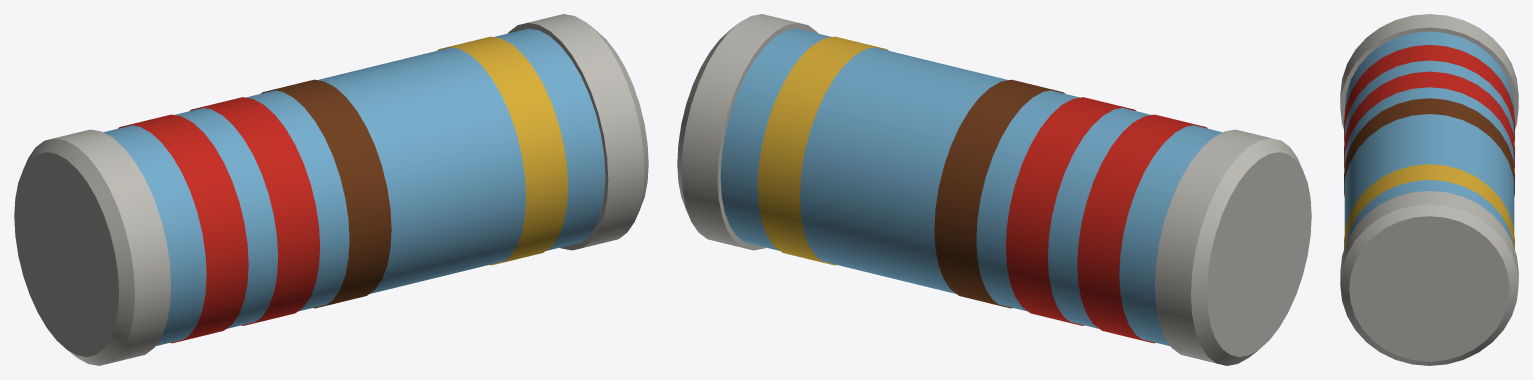
The model's file is resistor.glb.
3 renders of one model, left to right at view 1: azimuth 30°, elevation 25°; view 2: azimuth 150°, elevation 25°; view 3: azimuth 270°, elevation 25°, orthographic. The views are drawn at different scales.
Parts seen in each view (by area): view 1: body; view 2: body; view 3: body.
Part boxes in pixels (box(x1,y1,x2,y2)): body: box(14, 14, 648, 365); body: box(677, 14, 1311, 365); body: box(1340, 14, 1518, 365).
Bounding box in the file's own units: 6.3 × 2.4 × 2.4.
